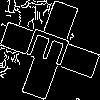E: (25, 25, 80, 72)
